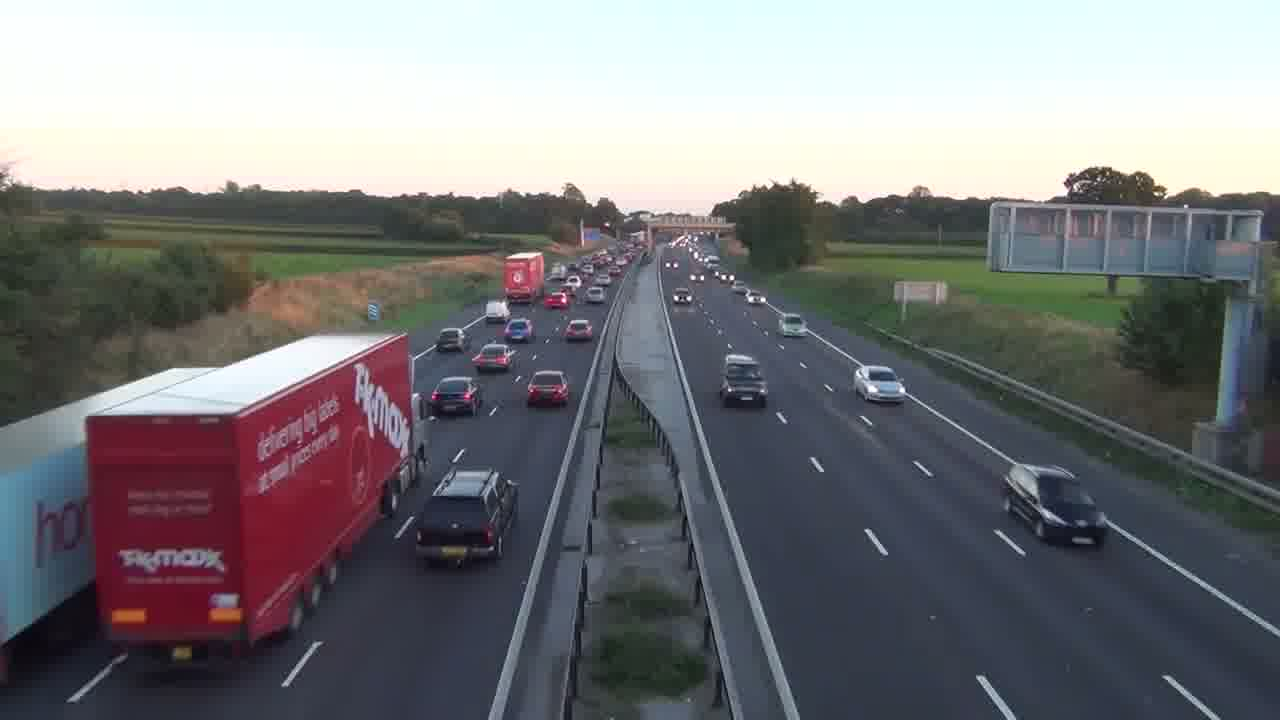bus: (502, 252, 545, 303)
car: (1001, 462, 1108, 547), (428, 375, 482, 418), (852, 364, 906, 405), (526, 369, 570, 408), (472, 341, 514, 372), (504, 317, 534, 342), (436, 327, 466, 352), (564, 319, 594, 342)
truck: (86, 329, 420, 662), (415, 466, 520, 568)
